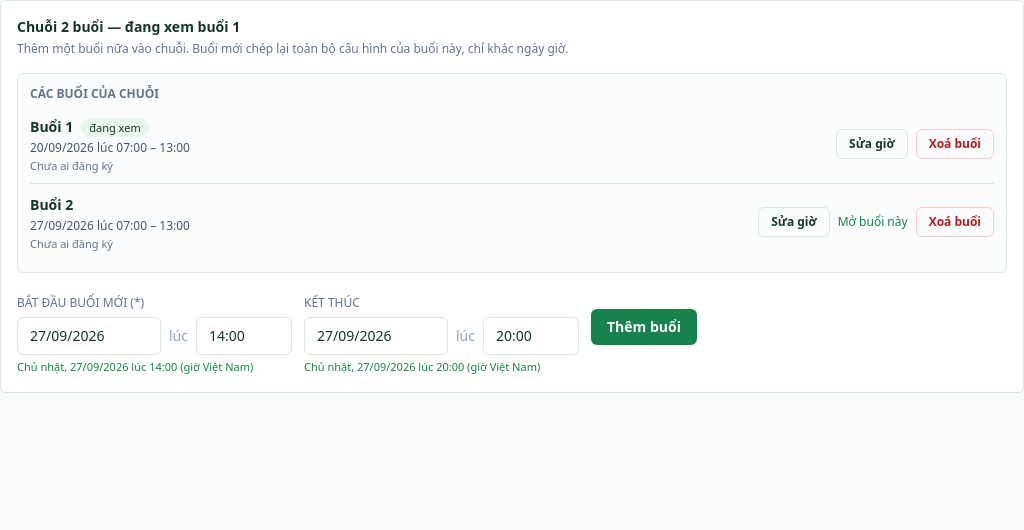
Test: ô sửa giờ › đóng sẵn, mở ra khi bấm
The image size is (1024, 530).
Click the button "Sửa giờ" in the row of "20/09/2026 lúc 07:00 – 13:00" at coordinates (872, 144), box 836,129 -> 908,159
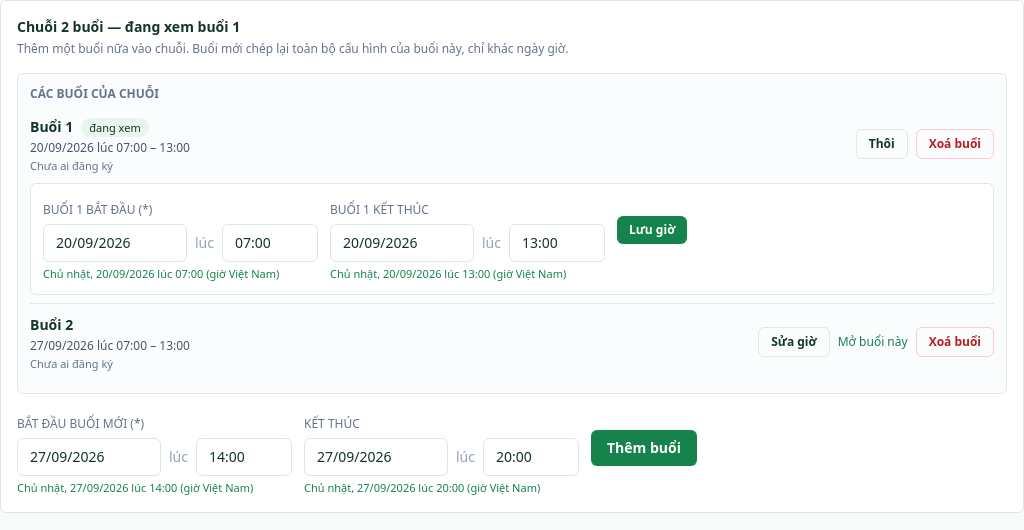
Expected: the field named "Buổi 1 bắt đầu — ngày" is shown, 43,224 -> 187,262
